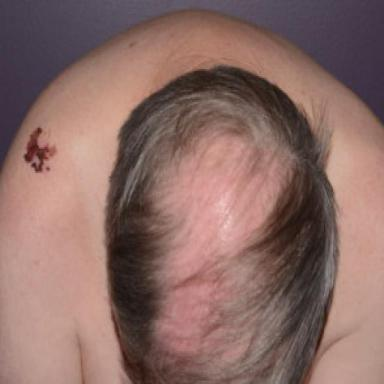Melanoma: (22, 125, 58, 175)
